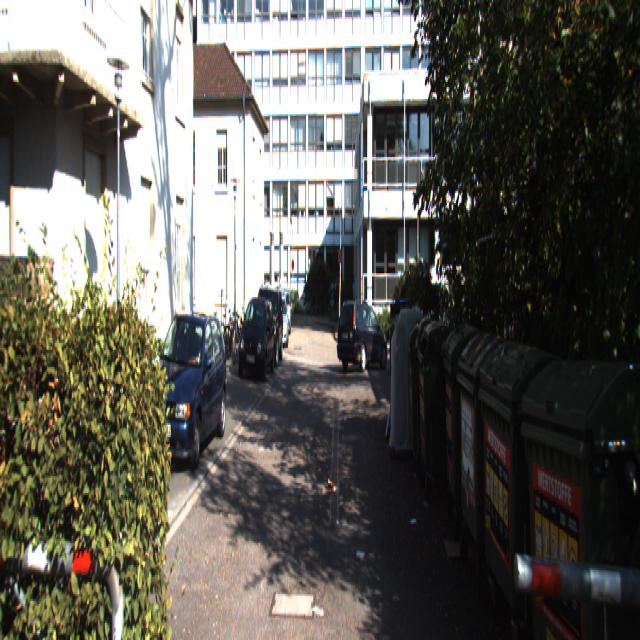Car: (141, 302, 227, 468), (336, 296, 388, 371), (237, 295, 275, 379), (252, 284, 284, 371), (270, 294, 290, 348)
